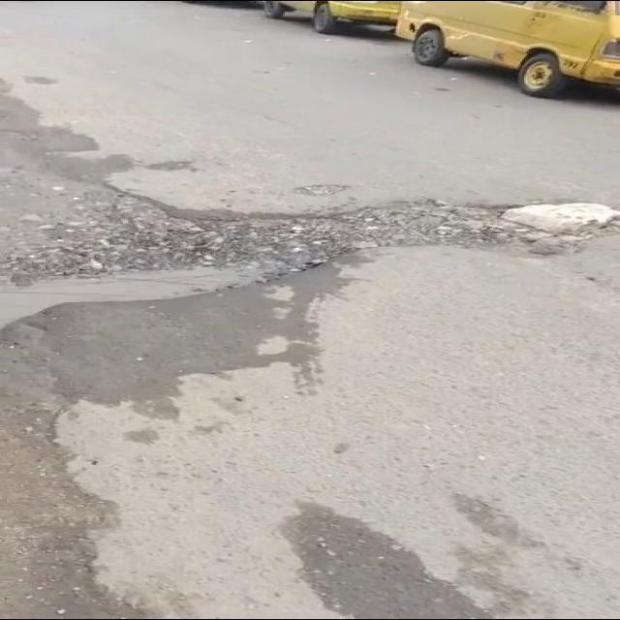lubang: (0, 157, 619, 327)
